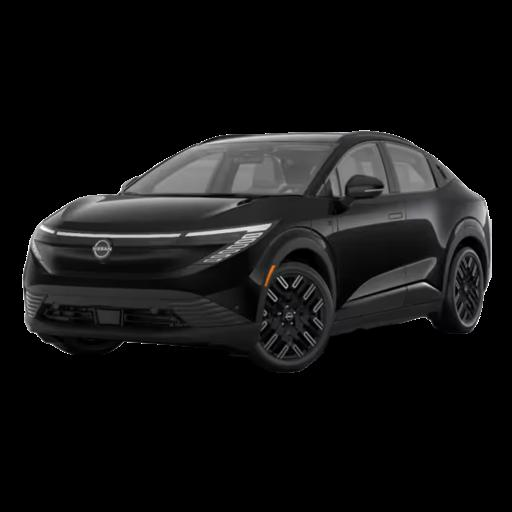hatchback: (27, 132, 491, 371)
